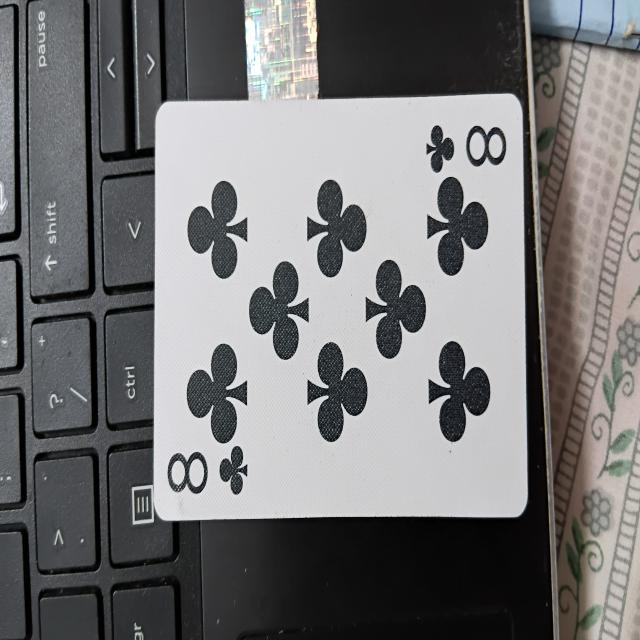8C: (156, 106, 527, 517)
